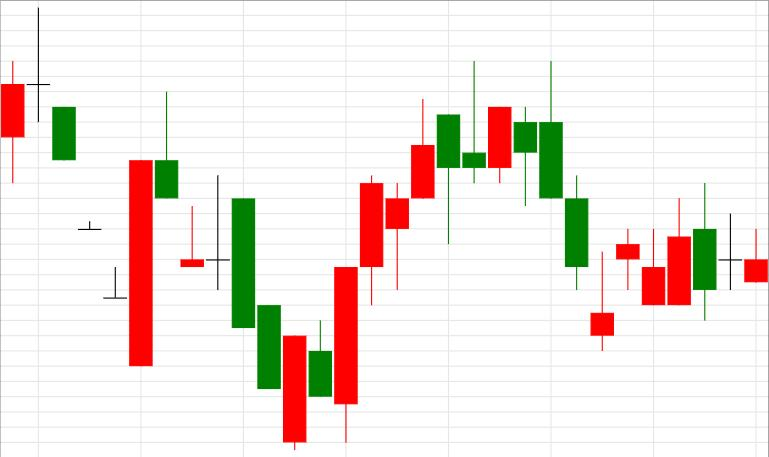hanging_man_fall: (334, 100, 460, 444)
